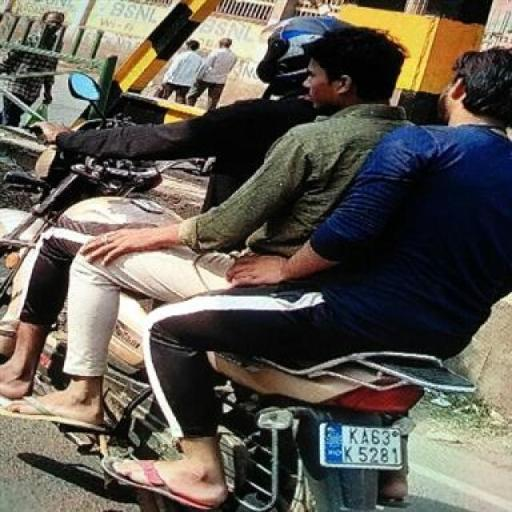tripple riding: (0, 15, 512, 352)
